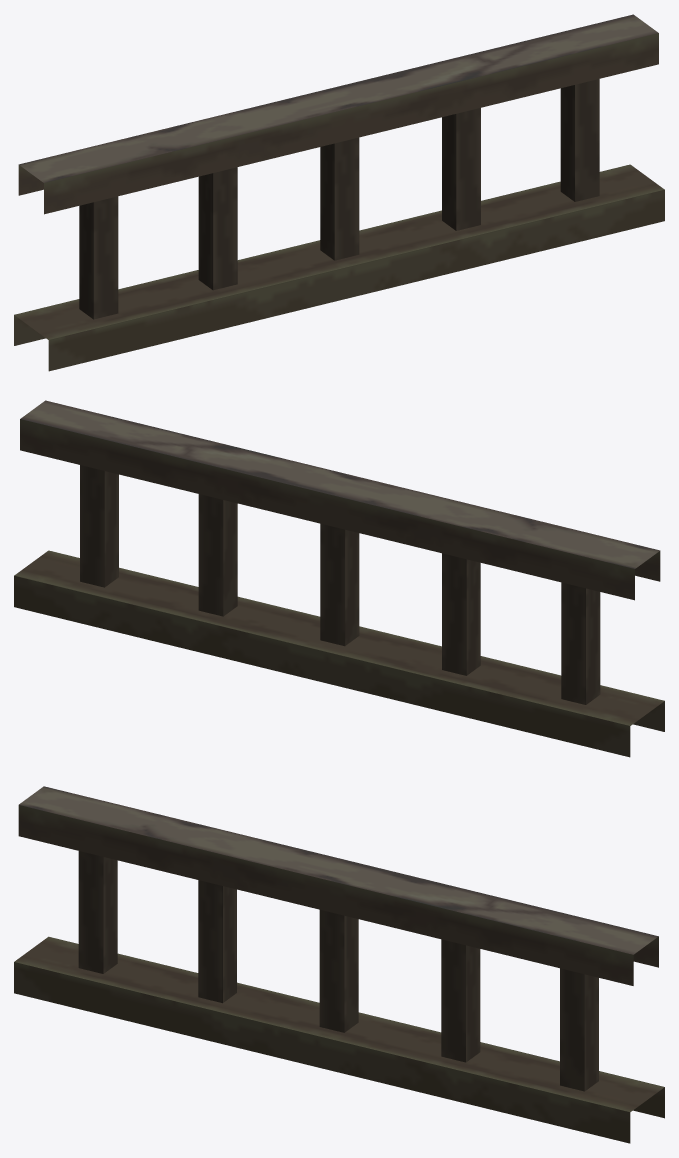
File: RailingLongModel.fbx
3 renders of one model, top to bottom at view 1: azimuth 30°, elevation 25°; view 2: azimuth 150°, elevation 25°; view 3: azimuth 330°, elevation 25°, orthographic.
Visible parts, largest first — view 1: RailingLongModel.001; view 2: RailingLongModel.001; view 3: RailingLongModel.001.
Part boxes in pixels (x1,y1,x2,y2): RailingLongModel.001: (14, 14, 664, 371); RailingLongModel.001: (14, 400, 664, 757); RailingLongModel.001: (14, 786, 664, 1143).
Bounding box in the file's own units: 515 × 148 × 50.
Materials: 1 (1 with a texture image).
